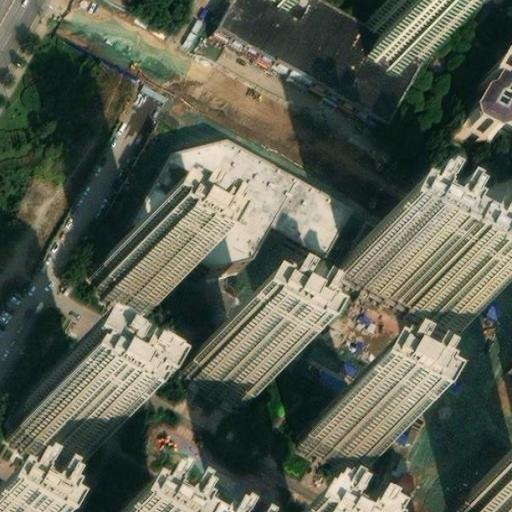building: (132, 129, 352, 262), (222, 0, 424, 107), (339, 227, 476, 328), (351, 212, 487, 306), (5, 391, 98, 473), (183, 337, 263, 403), (295, 408, 369, 475), (99, 241, 171, 299), (451, 477, 505, 512)
